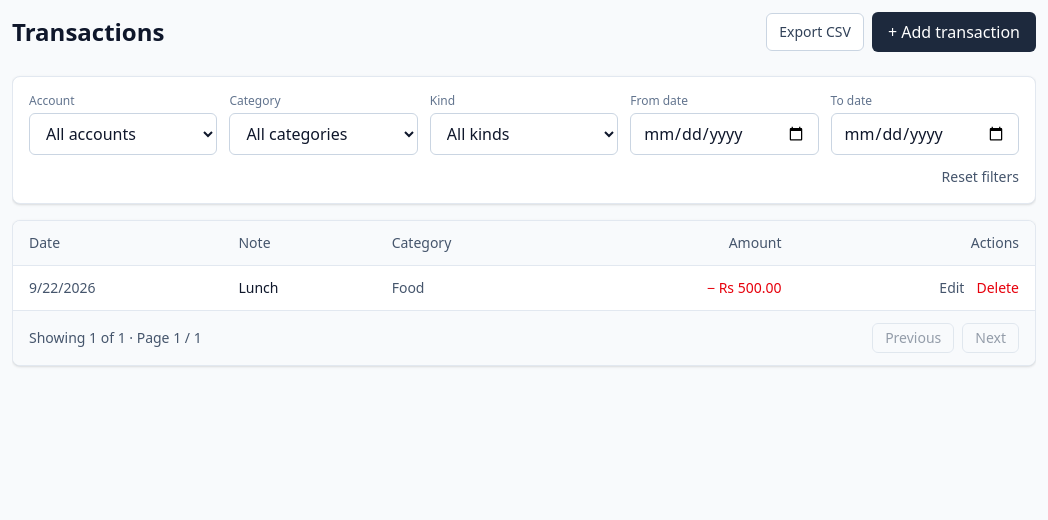
TransactionsPage › deletes a transaction after confirm and reloads
Expected: the text "Lunch" is shown, top-left (238, 278), bottom-right (278, 297)
What coordinates should you click on to do the following:
click the button "Delete"
I would click on:
 (998, 288)
Its box is top-left (976, 278), bottom-right (1019, 298).
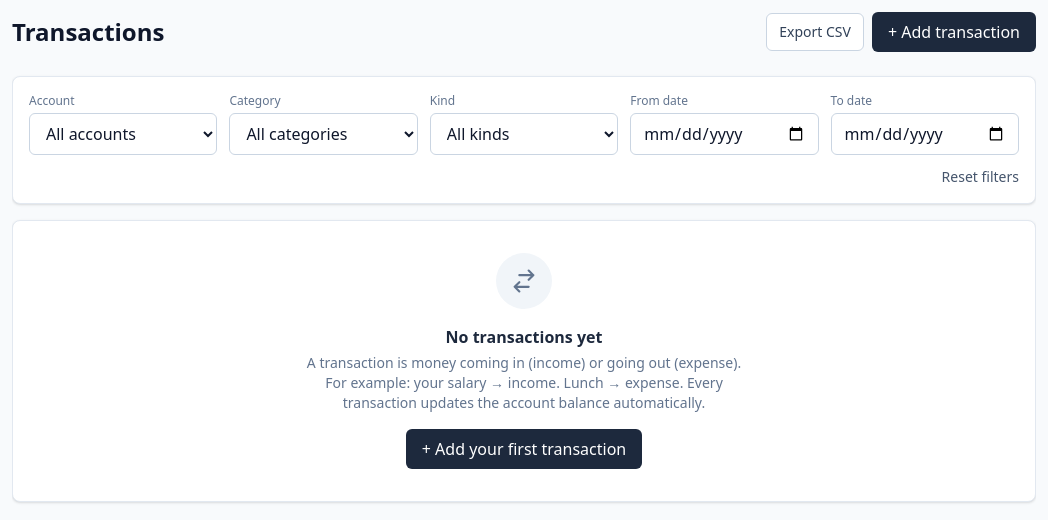
Expected: the heading "No transactions yet" is shown, top-left (446, 326), bottom-right (602, 348)
